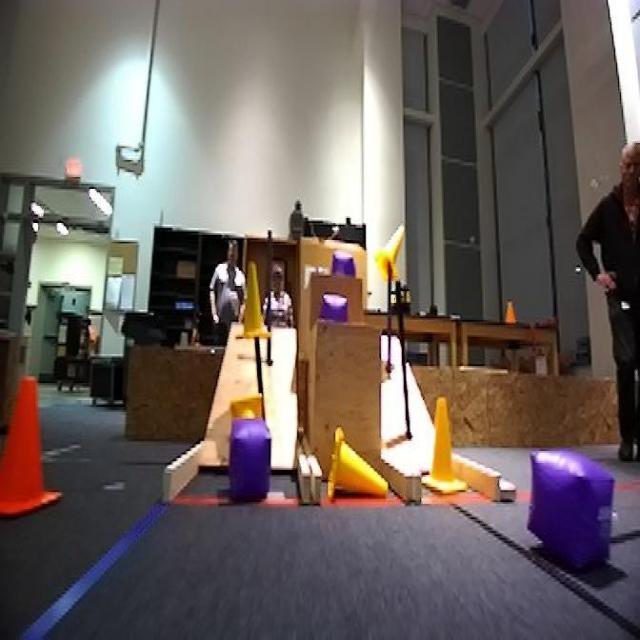frc_cone: (326, 429, 391, 499), (426, 395, 468, 502), (241, 269, 269, 342), (375, 230, 403, 284), (228, 402, 266, 429)
frc_cube: (534, 449, 616, 572), (227, 427, 272, 502), (322, 295, 349, 325), (335, 249, 355, 274)
